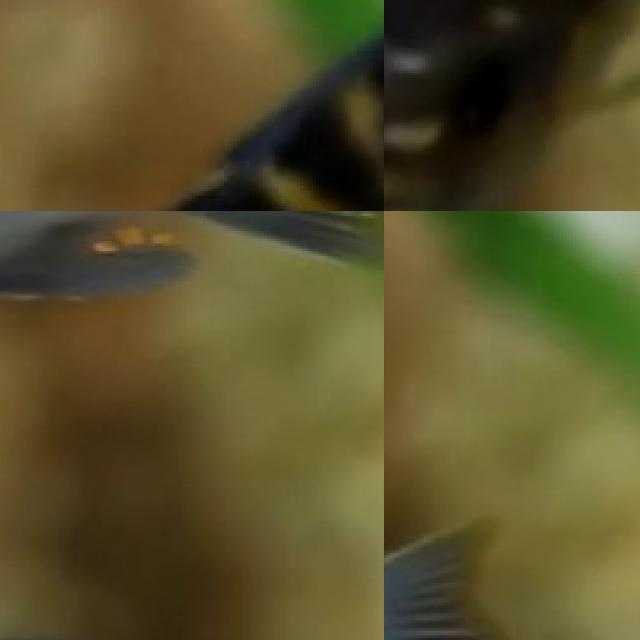fish: (0, 0, 384, 211), (0, 211, 384, 321)
